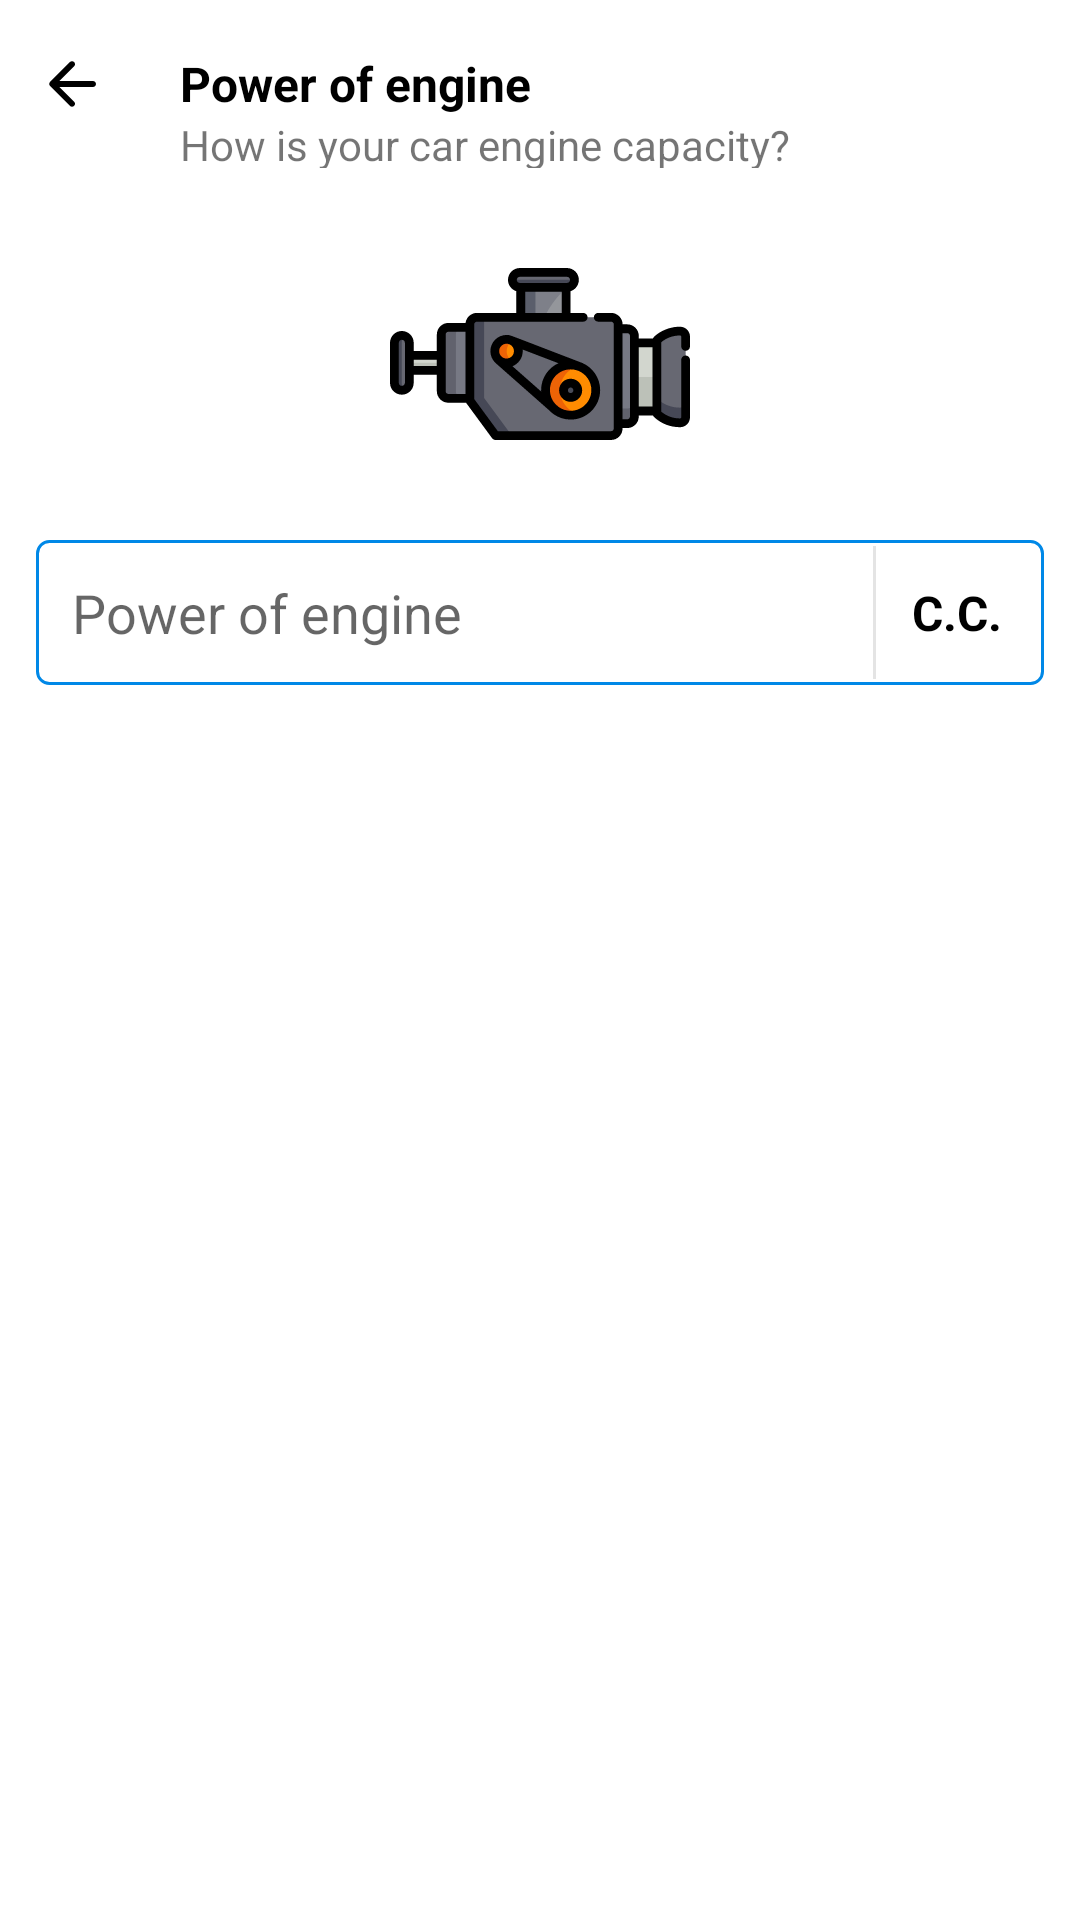

Locate icon controls on the screen. Image size 1080 × 1920, boxes as (x1, y1, x2, y2).
arrow back: (49, 61, 96, 107)
parts: (390, 268, 690, 440)
